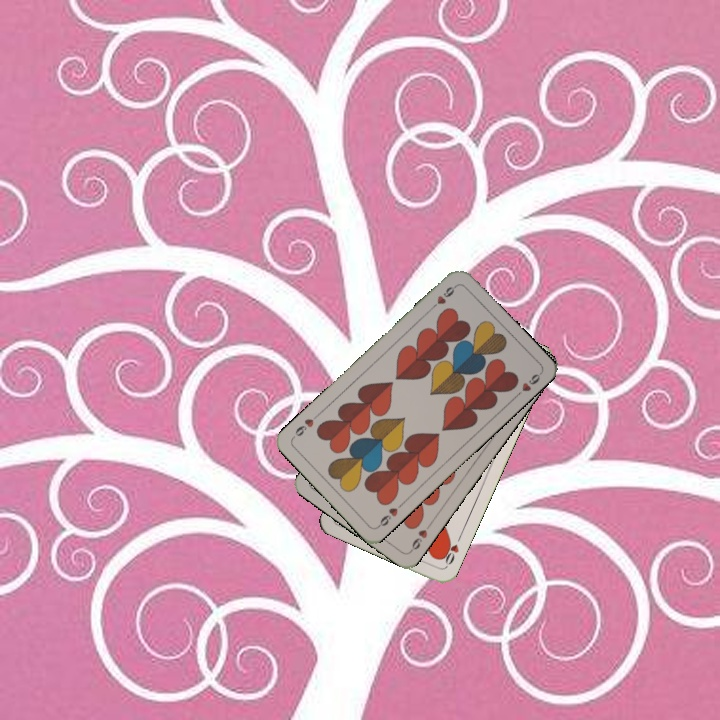H9: (426, 281, 460, 312), (373, 499, 406, 530), (406, 519, 434, 555)
HO: (437, 531, 464, 569)
